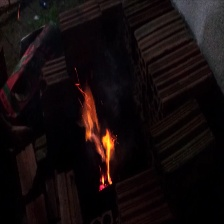fire: (75, 83, 122, 194)
